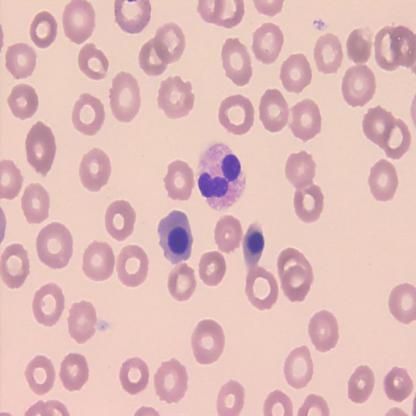NRC: (156, 208, 196, 265), (241, 219, 266, 269)
